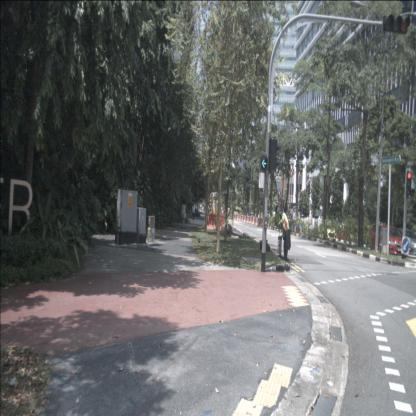barrier: (206, 214, 228, 231), (257, 218, 262, 227), (250, 217, 254, 224), (247, 216, 250, 224), (246, 217, 250, 223), (255, 218, 258, 226), (252, 216, 255, 224), (245, 216, 248, 223), (254, 218, 257, 225), (240, 216, 243, 222), (249, 218, 252, 224), (242, 216, 245, 222), (241, 216, 244, 222), (232, 215, 235, 220), (234, 215, 237, 220), (244, 216, 246, 222), (239, 216, 241, 221), (237, 215, 239, 220)
